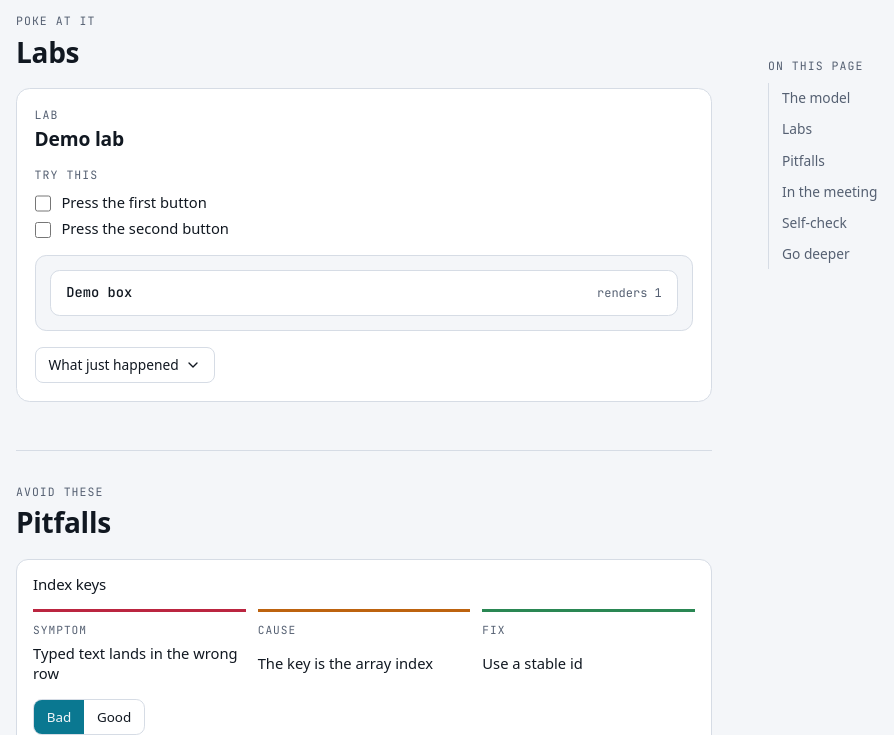
ModulePage labs › reveals what just happened inside a lab frame
The image size is (894, 735).
(page scrolled)
Expected: the text "second press changed nothing" is not shown
Click the button "What just happened" at (125, 365), box [35,347,215,383]
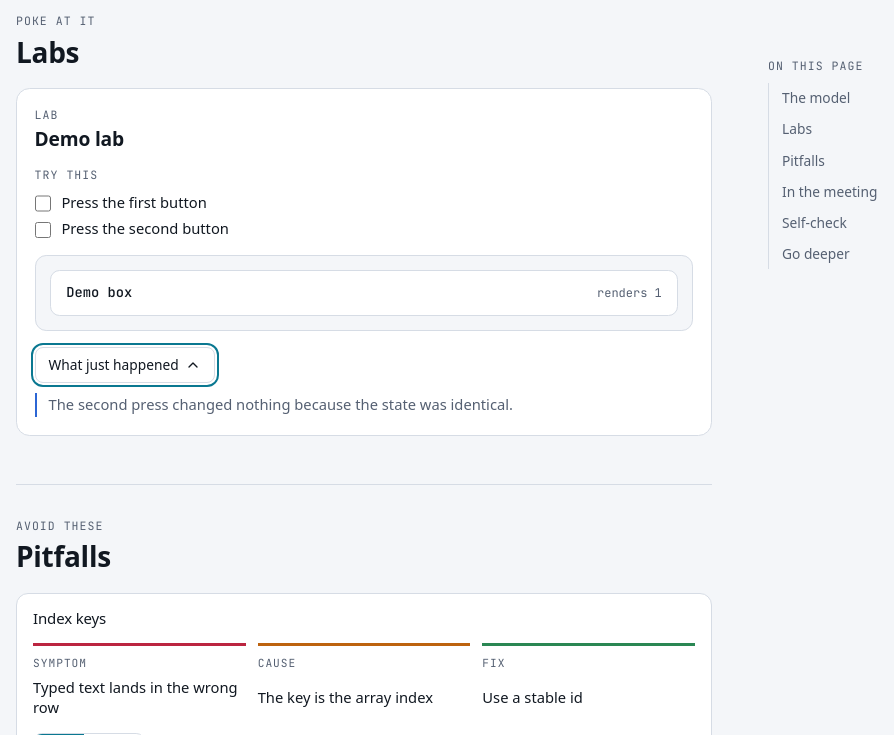
Expected: the text "second press changed nothing" is shown, [49,394,513,414]
